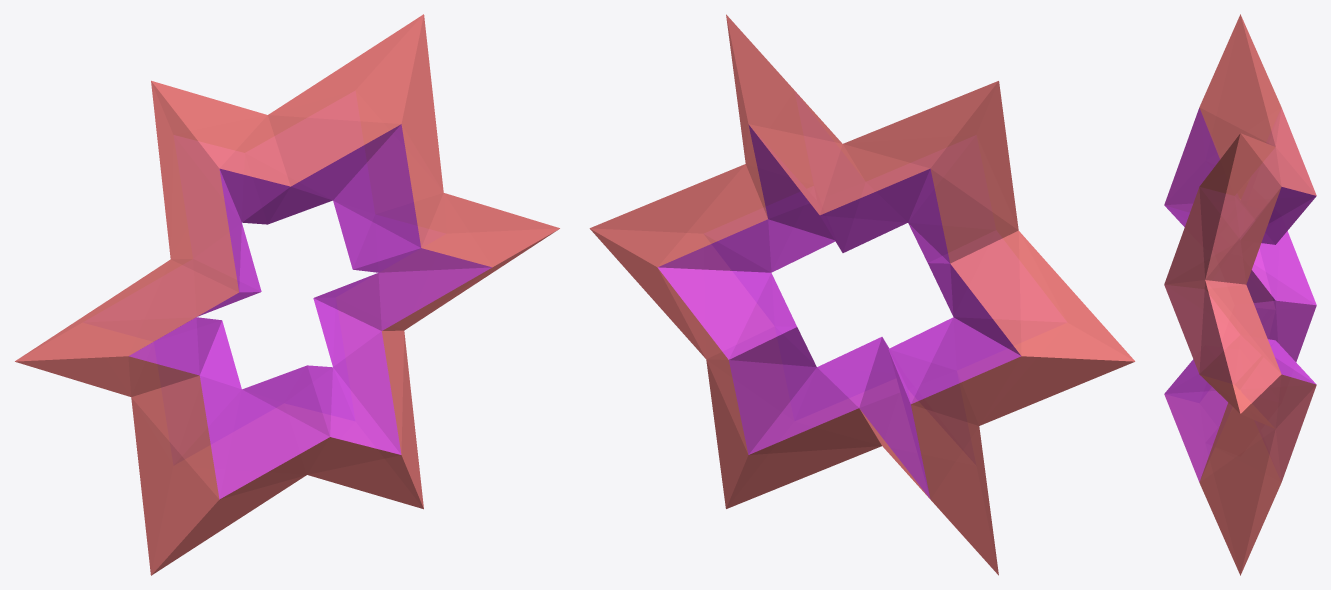
File: Regular6TetragonalStarToroidSin.obj
The picture shows the model from 3 angles, left to right: view 1: azimuth 30°, elevation 25°; view 2: azimuth 150°, elevation 25°; view 3: azimuth 270°, elevation 25°; orthographic projection. The views are drawn at different scales.
Size of the model in its own units: 4.8 by 4.16 by 1.3.
